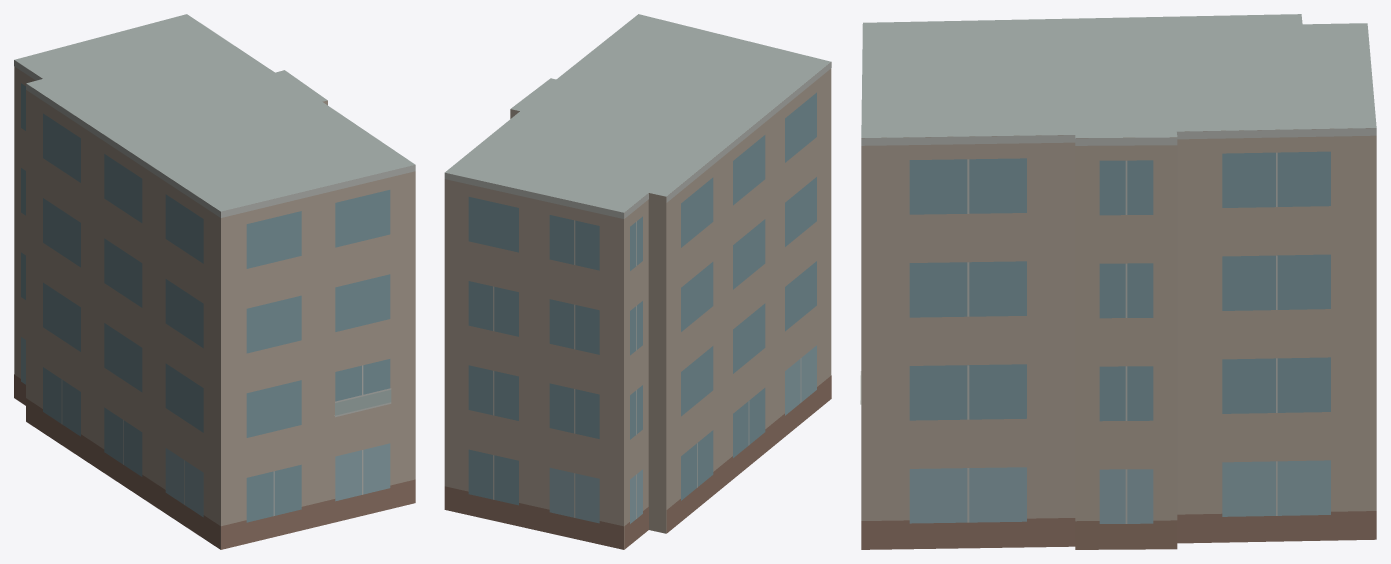
Rendered from survey-upis-32979984.glb.
3 renders of one model, left to right at view 1: azimuth 30°, elevation 25°; view 2: azimuth 150°, elevation 25°; view 3: azimuth 270°, elevation 25°, orthographic. The views are drawn at different scales.
Parts seen in each view (by area): view 1: survey-upis-32979984.tmp; view 2: survey-upis-32979984.tmp; view 3: survey-upis-32979984.tmp.
Part boxes in pixels (box(x1,y1,x2,y2)): survey-upis-32979984.tmp: box(14, 14, 415, 549); survey-upis-32979984.tmp: box(444, 14, 831, 549); survey-upis-32979984.tmp: box(860, 14, 1376, 549).
Size of the model in its own units: 8.35 by 12.9 by 14.67.
